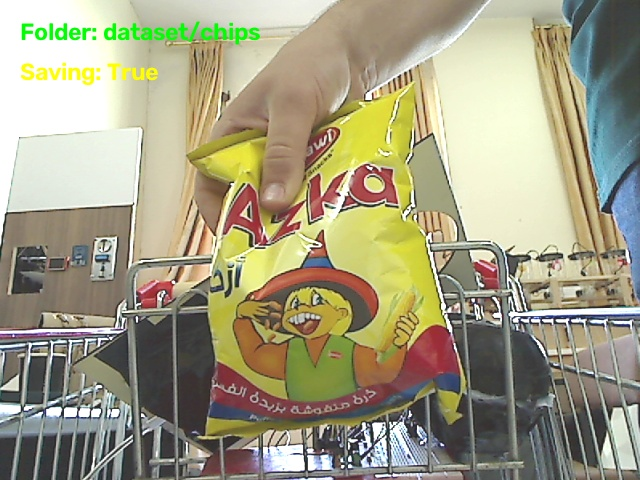chips: (189, 87, 464, 437)
